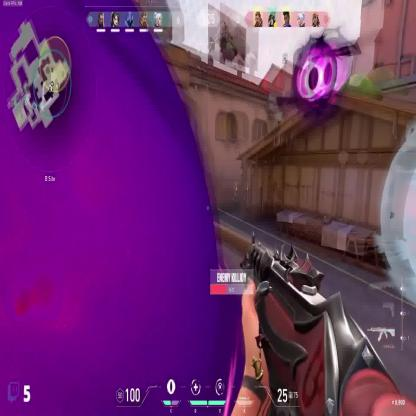enemy: (242, 180, 248, 204), (233, 180, 238, 206)
enemy_head: (244, 181, 248, 188), (234, 182, 237, 187)
